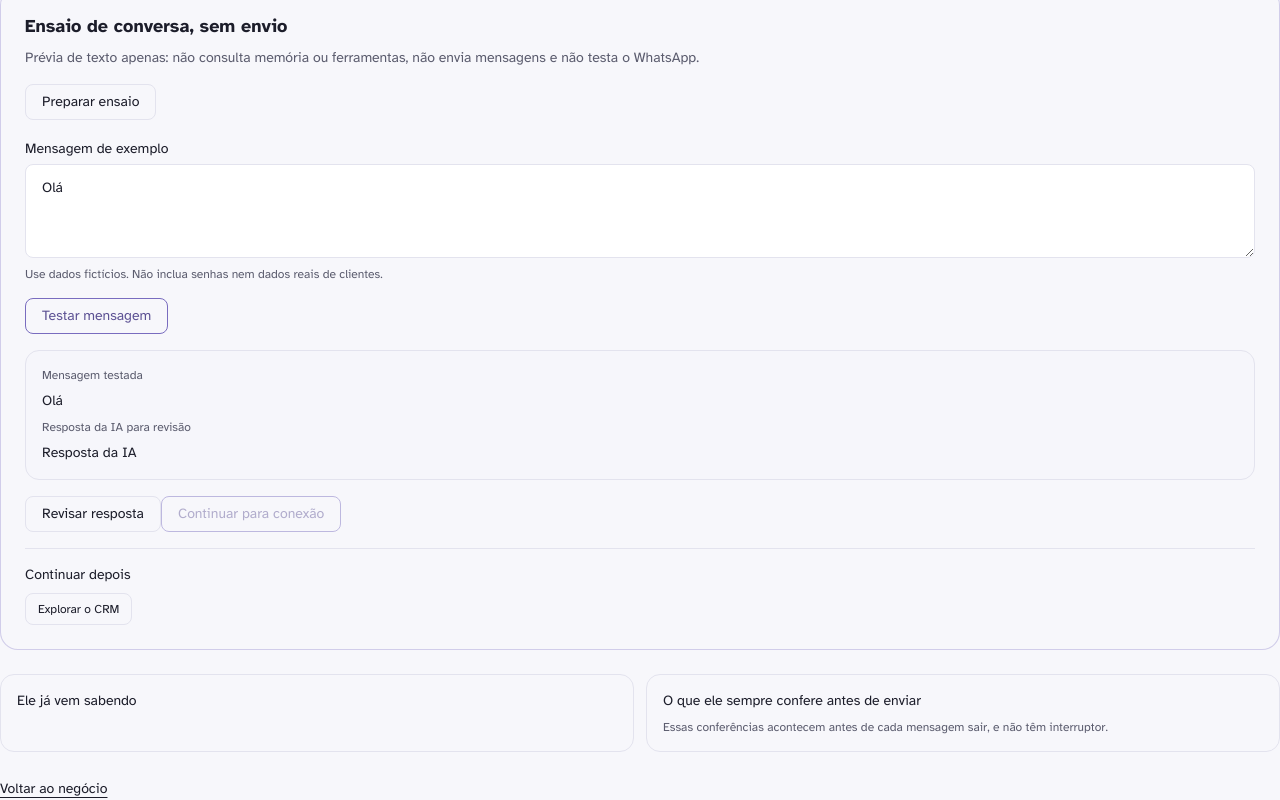
ensaio integrado na tela › continuação separada exige revisão corrente e sucesso confirmado sem criar agente legado
(page scrolled)
Expected: the button "Continuar para conexão" is disabled, [161,496,341,532]
Click the button "Revisar resposta": (93, 514) [25,496,161,532]
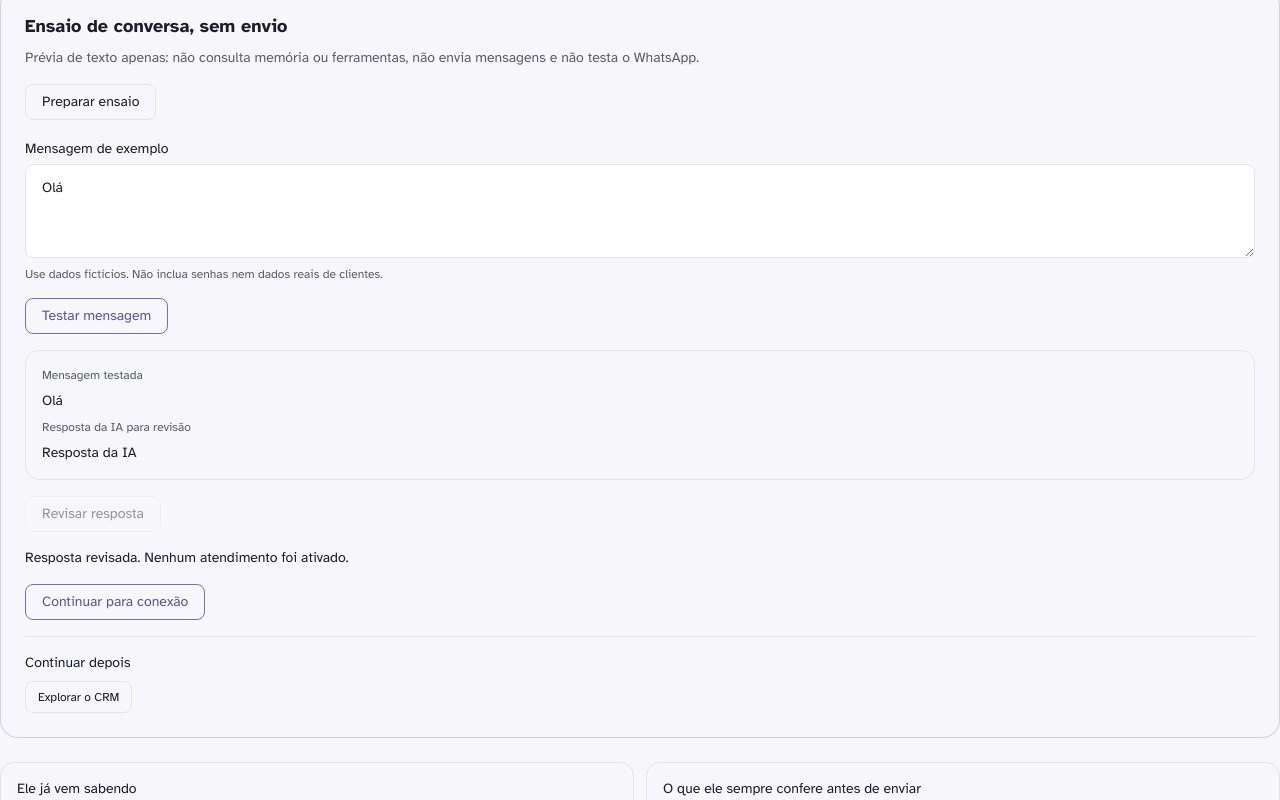
Expected: the button "Continuar para conexão" is enabled
Click the button "Continuar para conexão": (115, 602) [25,584,205,620]
(page scrolled)
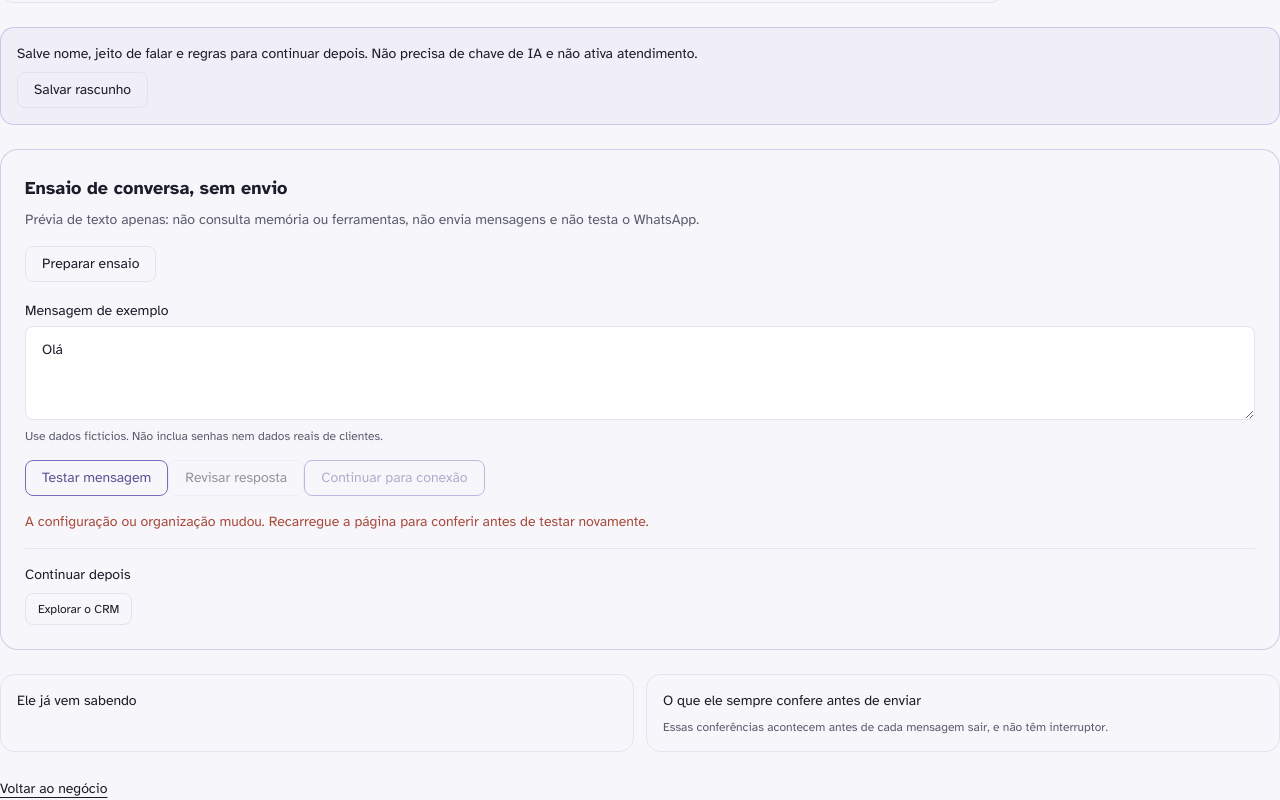
Expected: the message shows "A configuração ou organização mudou", [25,513,649,530]
Expected: the button "Continuar para conexão" is disabled, [304,460,484,496]
